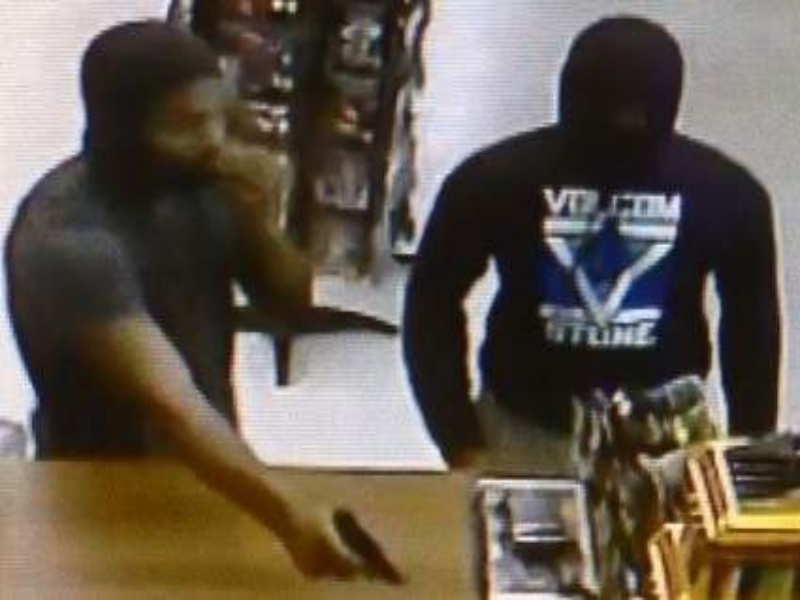gun: (298, 514, 418, 585)
